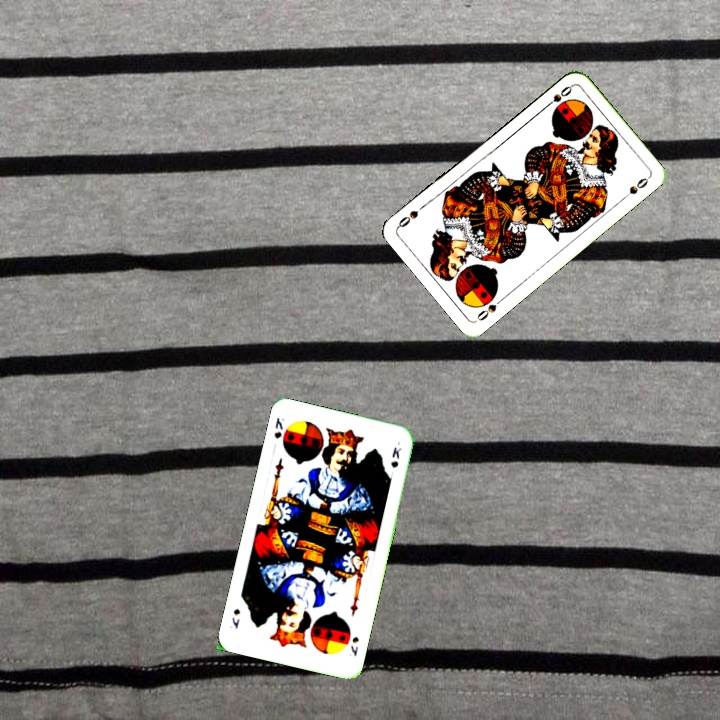SK: (270, 413, 287, 441), (347, 632, 361, 659)
SO: (472, 294, 506, 324), (540, 82, 575, 111)
